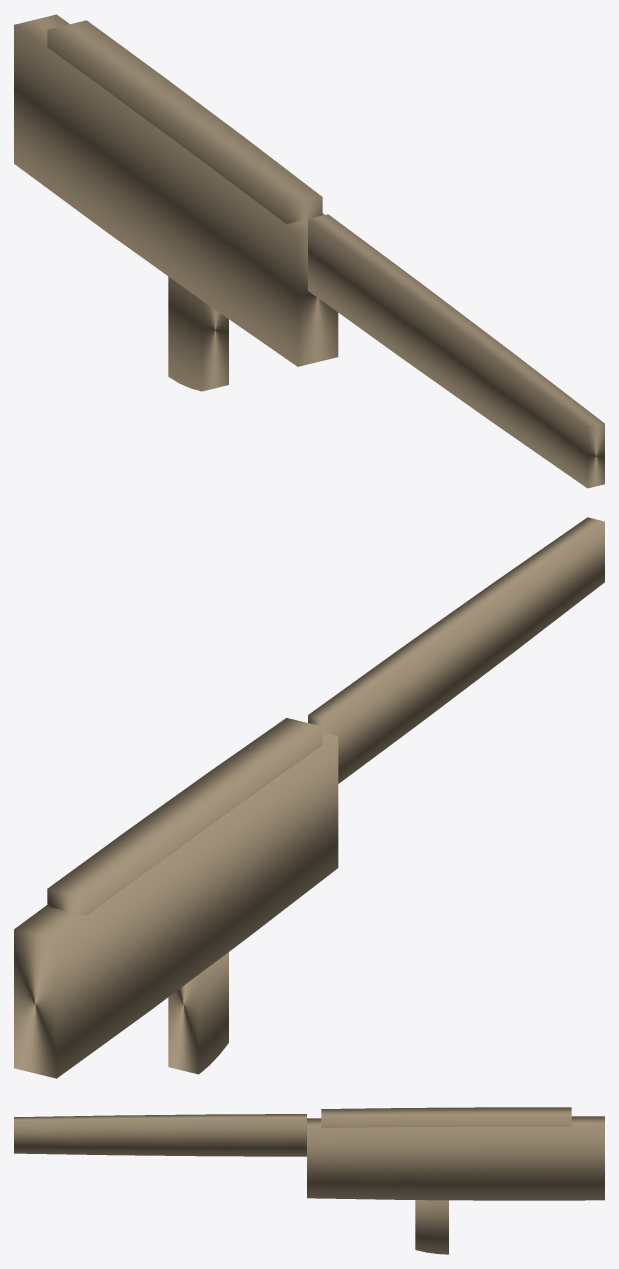
File: wpn_svd_dragunov.glb
The picture shows the model from 3 angles, top to bottom: view 1: azimuth 30°, elevation 25°; view 2: azimuth 150°, elevation 25°; view 3: azimuth 270°, elevation 25°; orthographic projection. The views are drawn at different scales.
Parts seen in each view (by area): view 1: SubMesh_0_Receiver, SubMesh_3_BarrelSight, SubMesh_1_Action, SubMesh_2_Magazine; view 2: SubMesh_0_Receiver, SubMesh_3_BarrelSight, SubMesh_1_Action, SubMesh_2_Magazine; view 3: SubMesh_0_Receiver, SubMesh_3_BarrelSight, SubMesh_1_Action, SubMesh_2_Magazine.
Boxes of the visible parts, <box> form: SubMesh_0_Receiver: <box>14,14,338,366</box>; SubMesh_3_BarrelSight: <box>308,214,604,488</box>; SubMesh_1_Action: <box>47,20,322,223</box>; SubMesh_2_Magazine: <box>168,276,228,391</box>; SubMesh_0_Receiver: <box>14,732,338,1078</box>; SubMesh_3_BarrelSight: <box>308,517,604,783</box>; SubMesh_1_Action: <box>47,718,322,915</box>; SubMesh_2_Magazine: <box>168,952,228,1074</box>; SubMesh_0_Receiver: <box>307,1116,604,1200</box>; SubMesh_3_BarrelSight: <box>14,1114,306,1156</box>; SubMesh_1_Action: <box>321,1107,571,1127</box>; SubMesh_2_Magazine: <box>415,1200,448,1254</box>.
Bounding box in the file's own units: 0.0544 × 0.3176 × 1.23.
